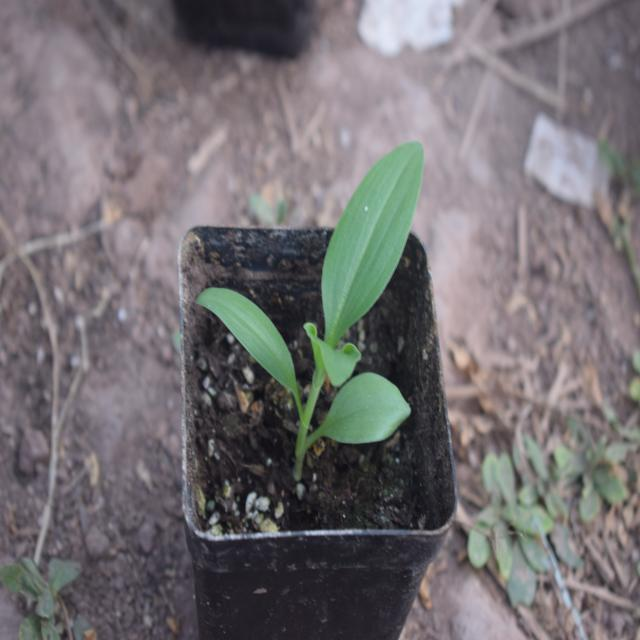Common Dayflower: (214, 110, 434, 466)
